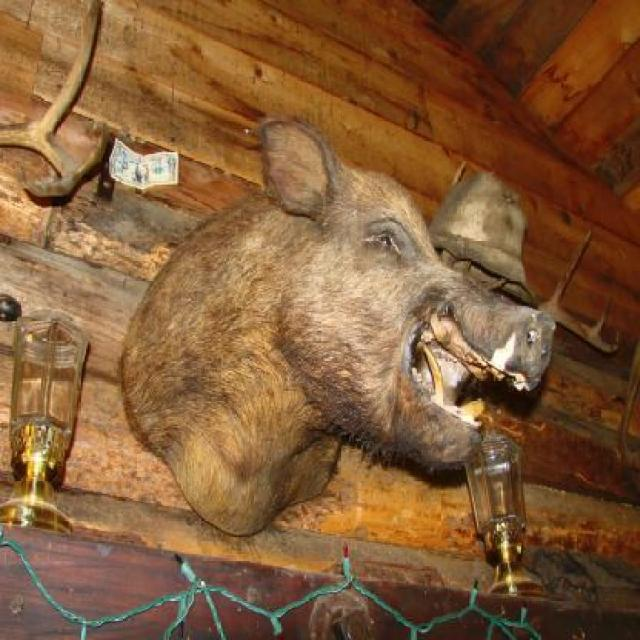pig: (114, 117, 555, 542)
